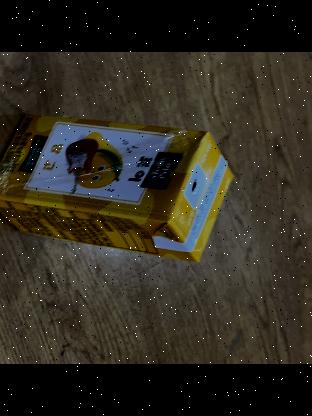Others: (0, 114, 244, 241)
